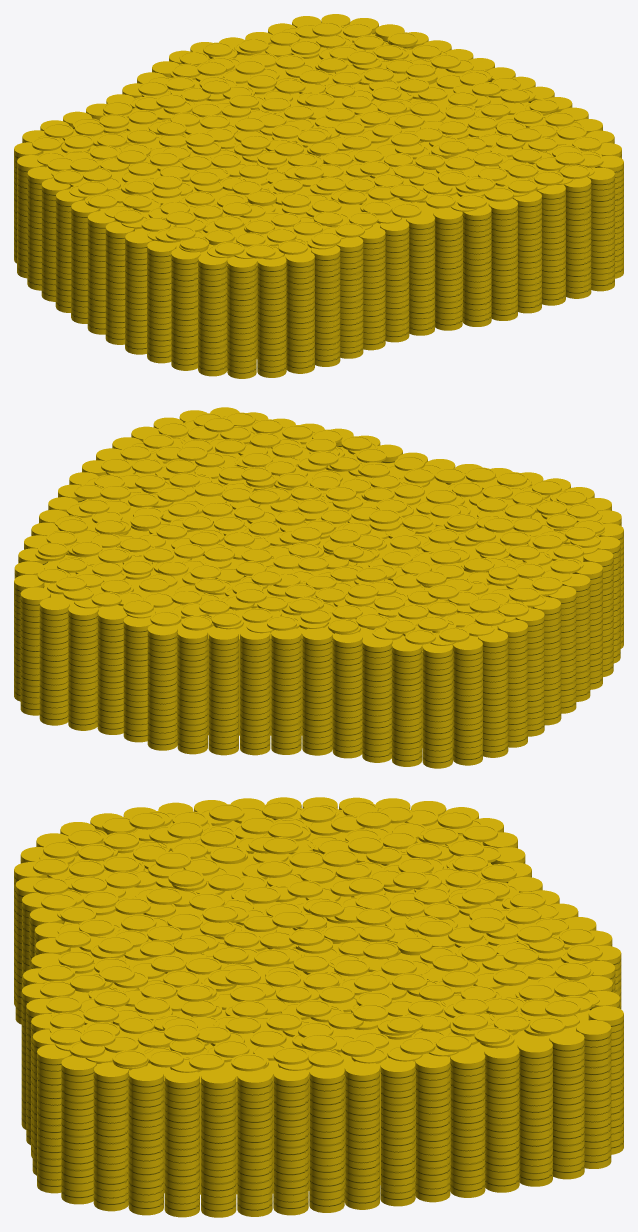
The model's file is testLargeCoinPile.glb.
The picture shows the model from 3 angles, top to bottom: view 1: azimuth 30°, elevation 25°; view 2: azimuth 150°, elevation 25°; view 3: azimuth 270°, elevation 25°; orthographic projection. The views are drawn at different scales.
Visible parts, largest first — view 1: Cylinder; view 2: Cylinder; view 3: Cylinder.
Part boxes in pixels (x1,y1,x2,y2): Cylinder: (14,14,623,378); Cylinder: (14,407,623,768); Cylinder: (14,797,623,1217).
Size of the model in its own units: 9.59 by 2.22 by 8.64.
2 materials, 1 textured.
